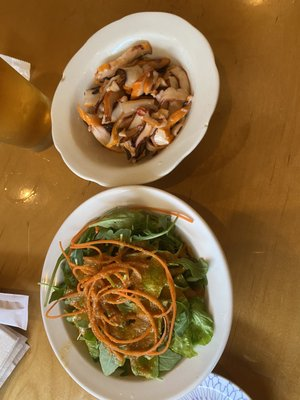sushi: (41, 186, 233, 400), (50, 11, 220, 188)
